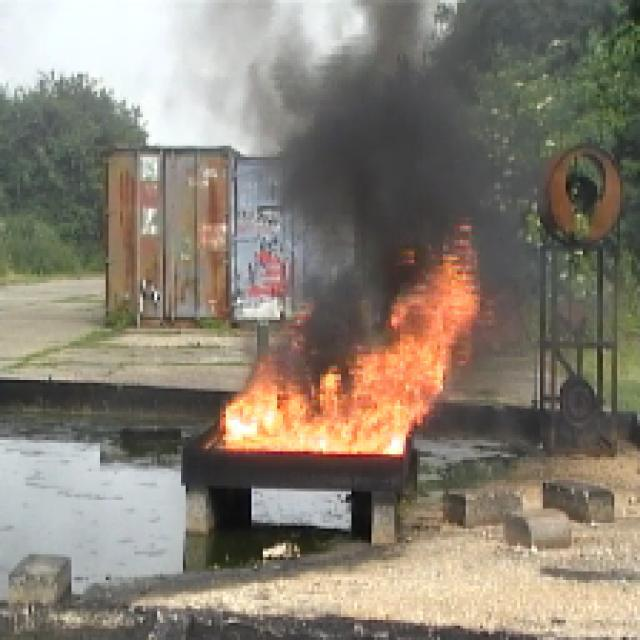Fire: (223, 376, 414, 456), (395, 264, 455, 392)
Smoke: (299, 50, 480, 248)
